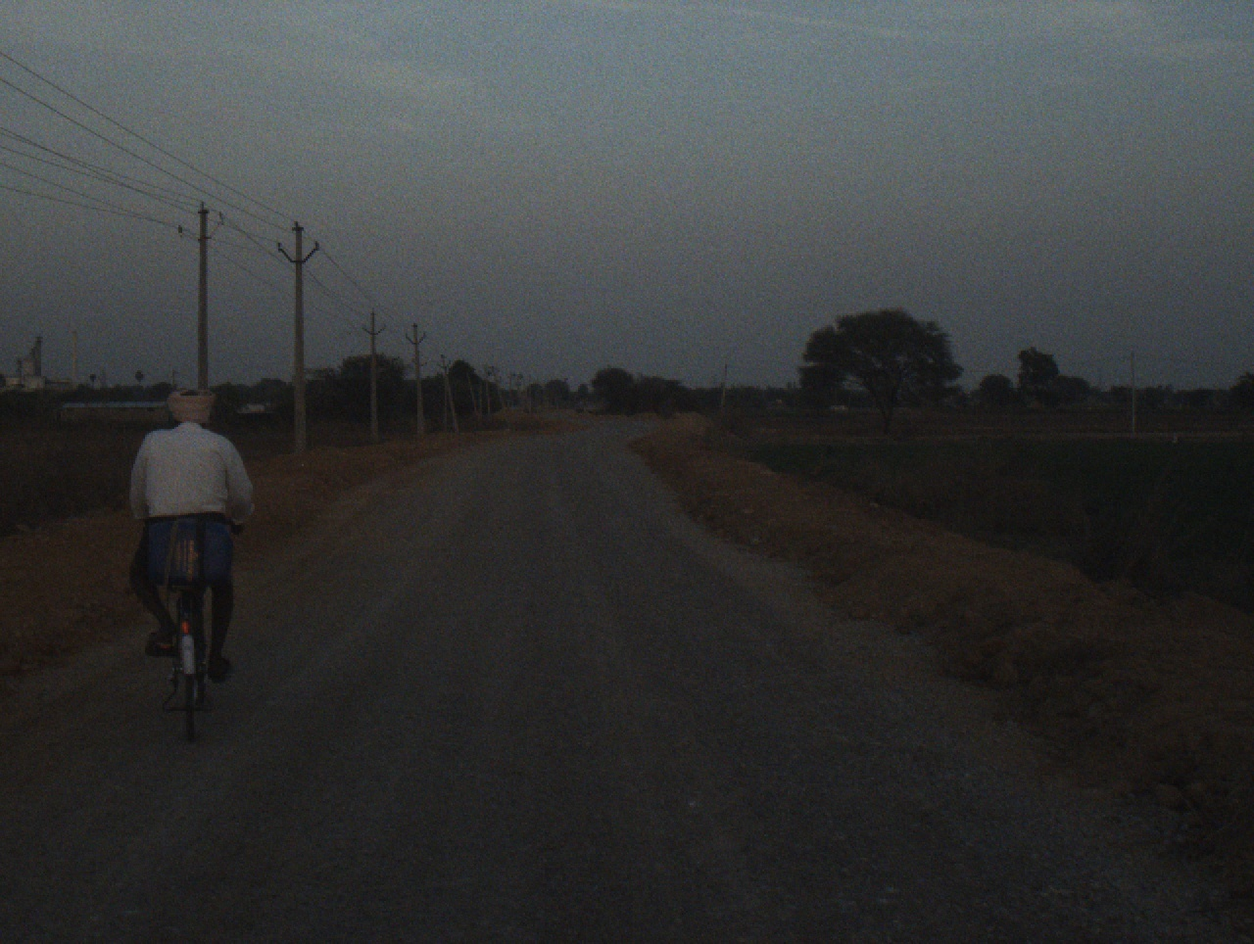bicycle: (147, 550, 220, 749)
rider: (118, 383, 258, 697)
